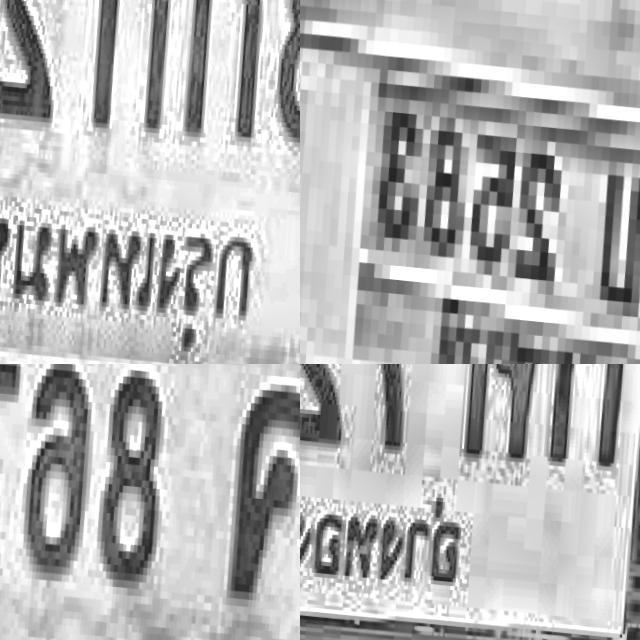license-plate: (300, 0, 640, 364), (0, 0, 300, 364), (300, 364, 640, 640), (0, 364, 300, 640)
